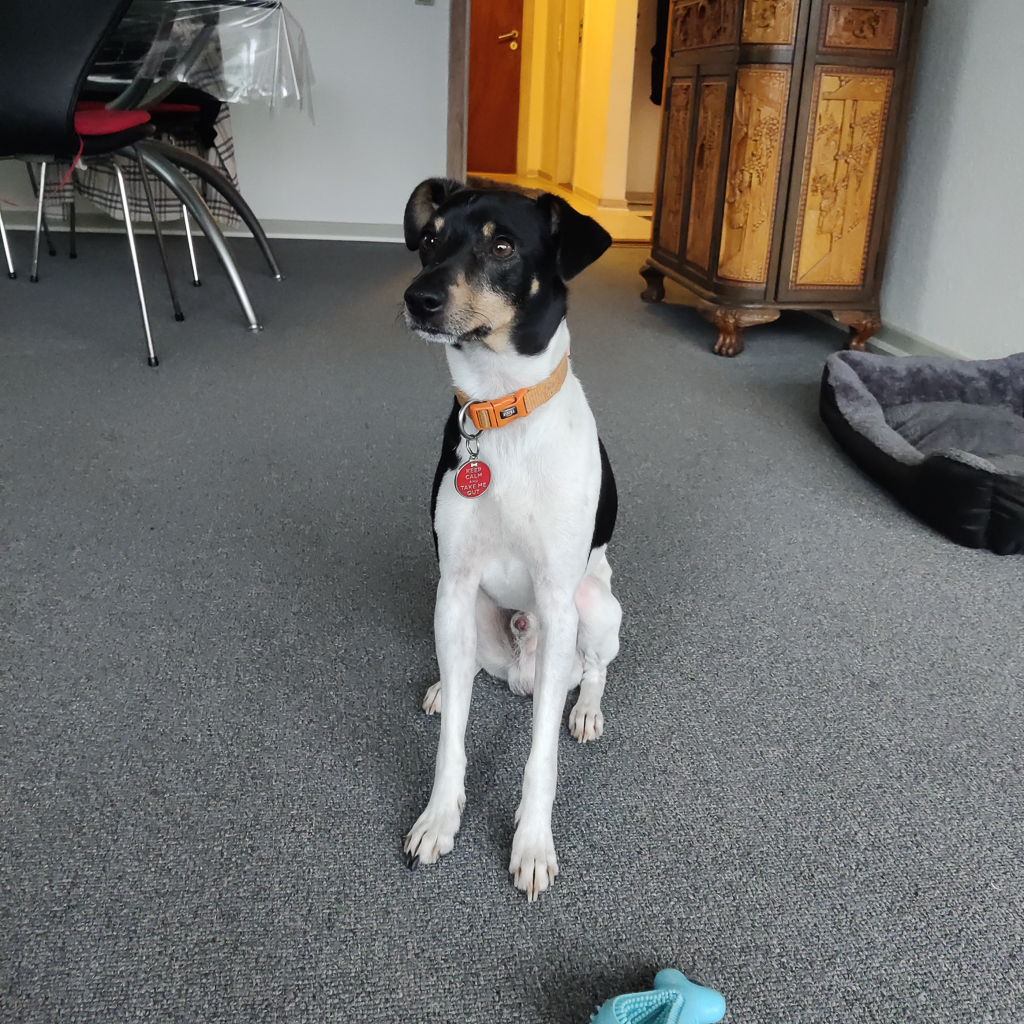Dog: (310, 133, 714, 928)
